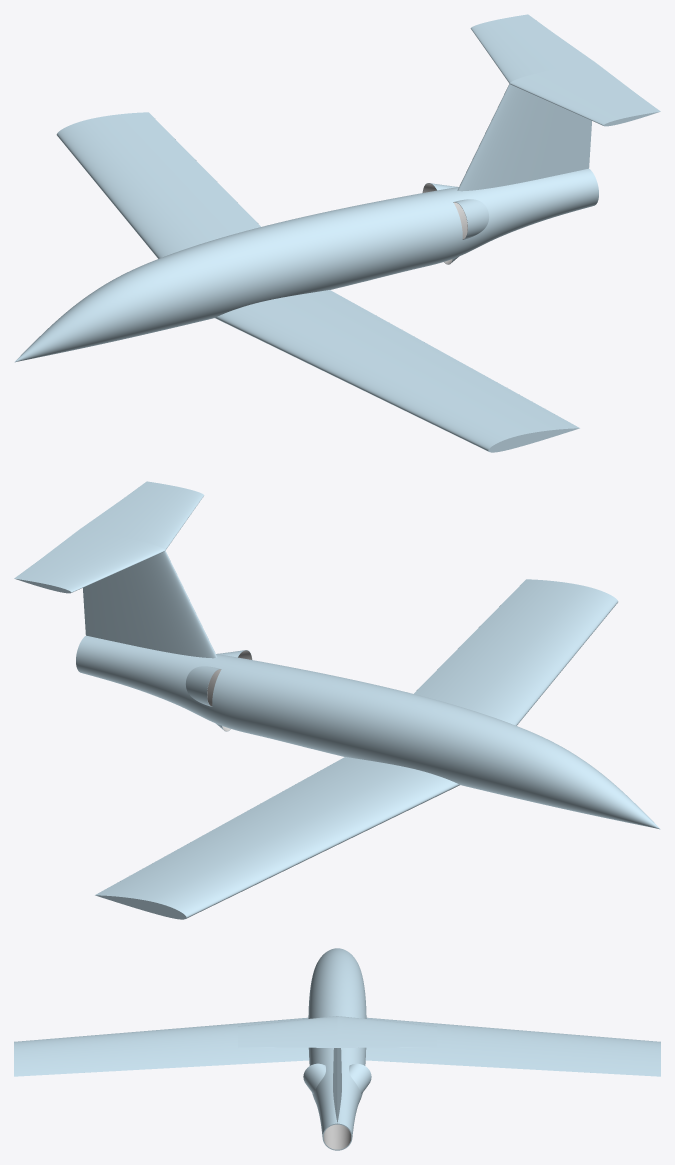
Rendered from Arc Knight Mk1.gltf.
The picture shows the model from 3 angles, top to bottom: view 1: azimuth 30°, elevation 25°; view 2: azimuth 150°, elevation 25°; view 3: azimuth 270°, elevation 25°; orthographic projection. The views are drawn at different scales.
Visible parts, largest first — view 1: Arc Knight MK 1; view 2: Arc Knight MK 1; view 3: Arc Knight MK 1.
Part boxes in pixels (left/top/right/bottom): Arc Knight MK 1: left=14, top=14, right=660, bottom=452; Arc Knight MK 1: left=14, top=481, right=660, bottom=919; Arc Knight MK 1: left=14, top=948, right=660, bottom=1150.
Bounding box in the file's own units: 1.01 × 0.2787 × 1.3.
